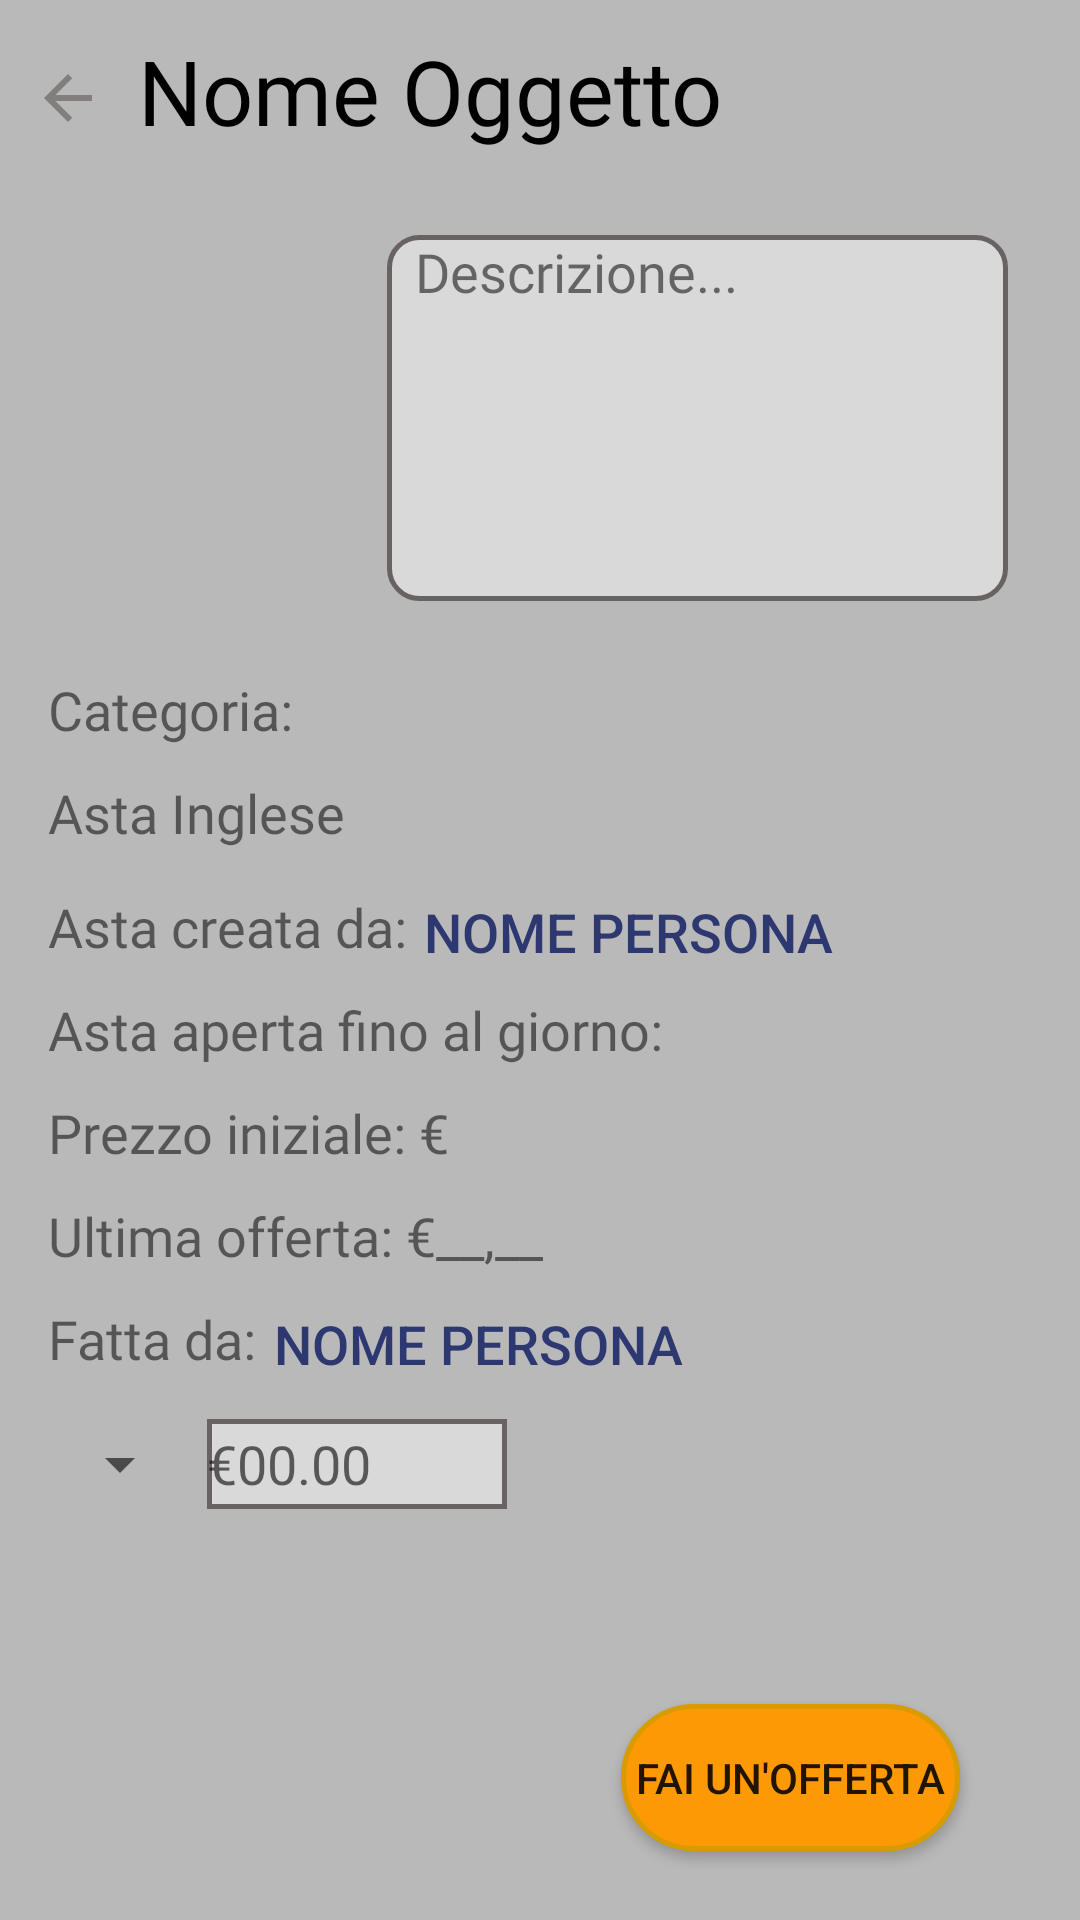

Icons on this 1080 x 1920 Android screen, each with its box as (x1, y1, x2, y2):
Indietro: (44, 74, 92, 122)
